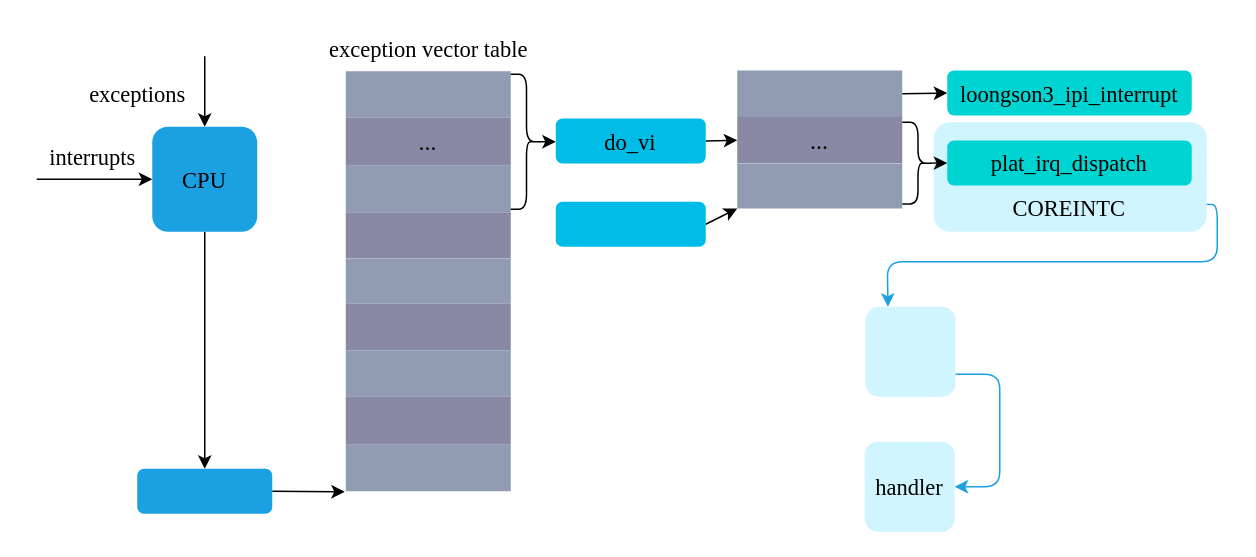
The diagram is 1256 pixels wide and 557 high, and some of its shapes have lost their labels. The centre of each missing label's shape, as x and y in pixels:
domain: point 910,351
EENTRY: point 204,490
ip_handlers: point 630,223
